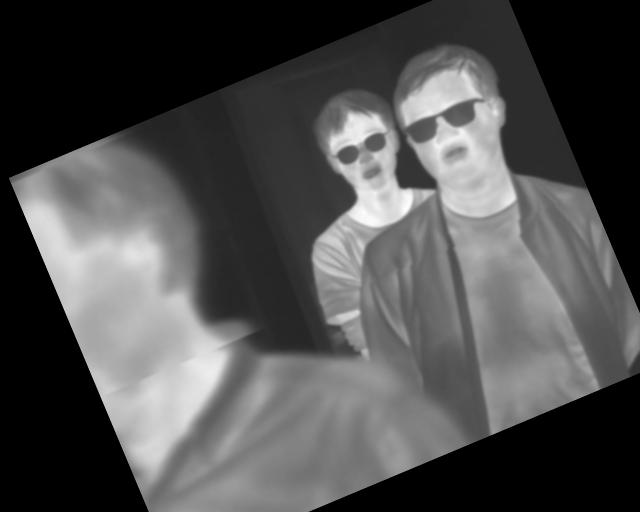face: (375, 26, 534, 205), (300, 76, 417, 207)
